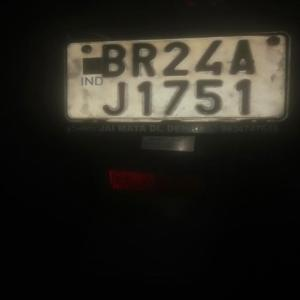Plate: (68, 32, 282, 120)
